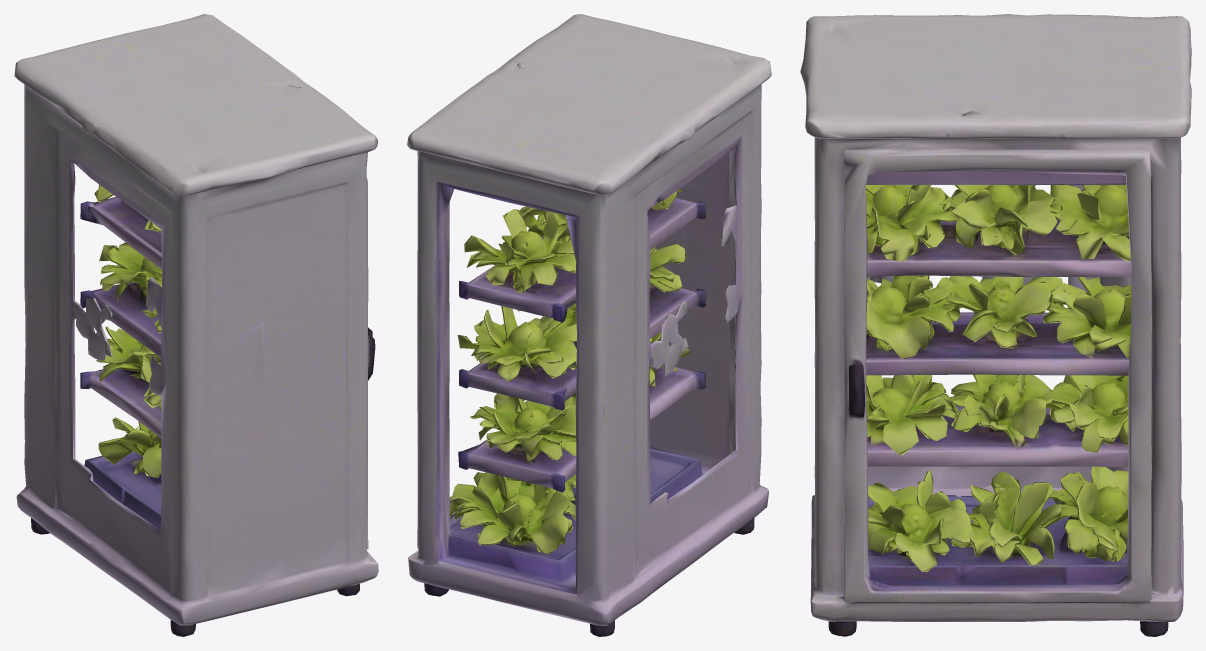
File: plants.glb
3 renders of one model, left to right at view 1: azimuth 30°, elevation 25°; view 2: azimuth 150°, elevation 25°; view 3: azimuth 270°, elevation 25°, orthographic. The views are drawn at different scales.
Visible parts, largest first — view 1: tripo_node_eaf97d51-c737-4763-9cf0-885e529f2a5d; view 2: tripo_node_eaf97d51-c737-4763-9cf0-885e529f2a5d; view 3: tripo_node_eaf97d51-c737-4763-9cf0-885e529f2a5d.
Part boxes in pixels (bbox=[...]): tripo_node_eaf97d51-c737-4763-9cf0-885e529f2a5d: bbox=[14, 14, 378, 636]; tripo_node_eaf97d51-c737-4763-9cf0-885e529f2a5d: bbox=[407, 14, 771, 636]; tripo_node_eaf97d51-c737-4763-9cf0-885e529f2a5d: bbox=[800, 14, 1191, 636].
Size of the model in its own units: 0.4882 by 0.979 by 0.6672.
Materials: 1 (1 with a texture image).
